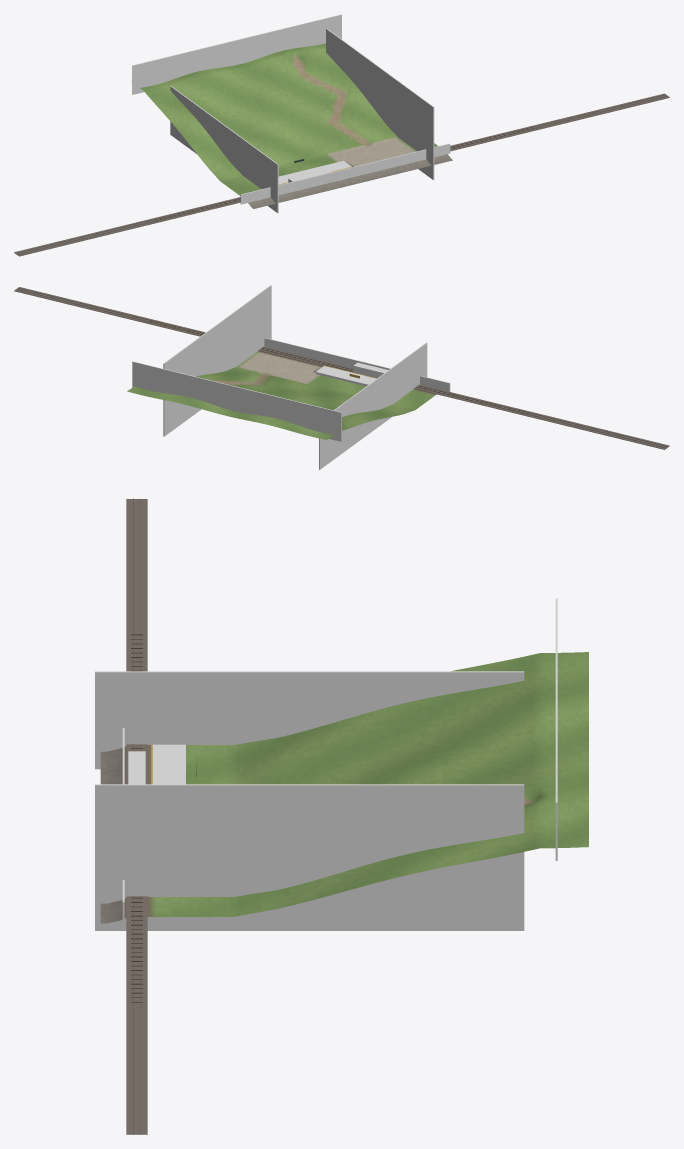
The model's file is station.glb.
The picture shows the model from 3 angles, top to bottom: view 1: azimuth 30°, elevation 25°; view 2: azimuth 150°, elevation 25°; view 3: azimuth 270°, elevation 25°; orthographic projection. The views are drawn at different scales.
Parts seen in each view (by area): view 1: GROUND_station, COL_station, station; view 2: COL_station, GROUND_station, station; view 3: COL_station, GROUND_station, station.
Part boxes in pixels (x1=…): GROUND_station: x1=132, y1=43, x2=452, y2=208; COL_station: x1=132, y1=14, x2=450, y2=213; station: x1=14, y1=93, x2=669, y2=256; COL_station: x1=132, y1=285, x2=450, y2=469; GROUND_station: x1=127, y1=351, x2=436, y2=439; station: x1=14, y1=287, x2=669, y2=449; COL_station: x1=95, y1=598, x2=557, y2=930; GROUND_station: x1=100, y1=652, x2=588, y2=923; station: x1=126, y1=498, x2=196, y2=1134.
Bounding box in the file's own units: 280 × 31 × 92.
